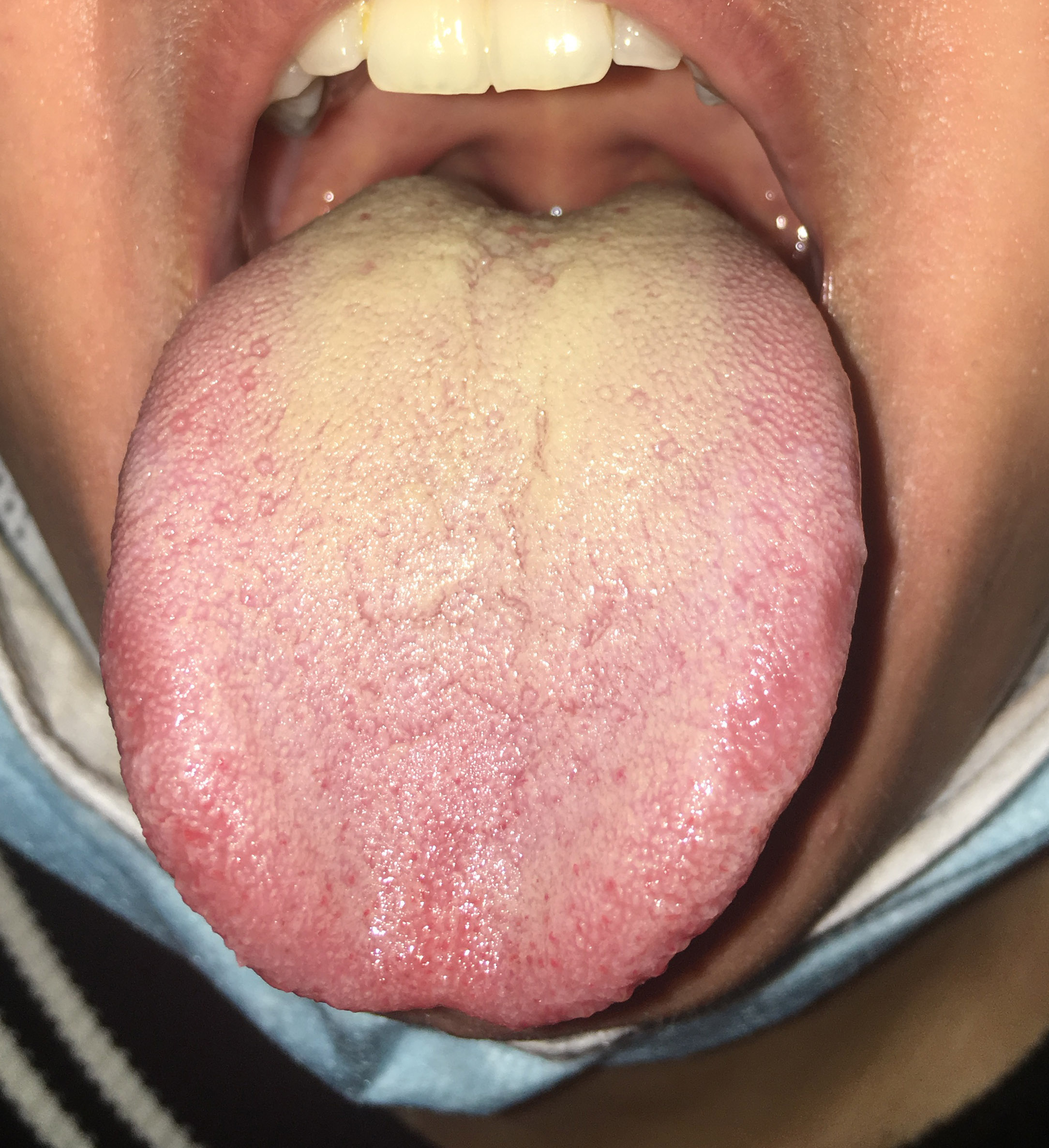hongshe: (99, 174, 866, 1030)
huangtaishe: (100, 175, 867, 1031)
shenquao: (405, 175, 686, 259)
